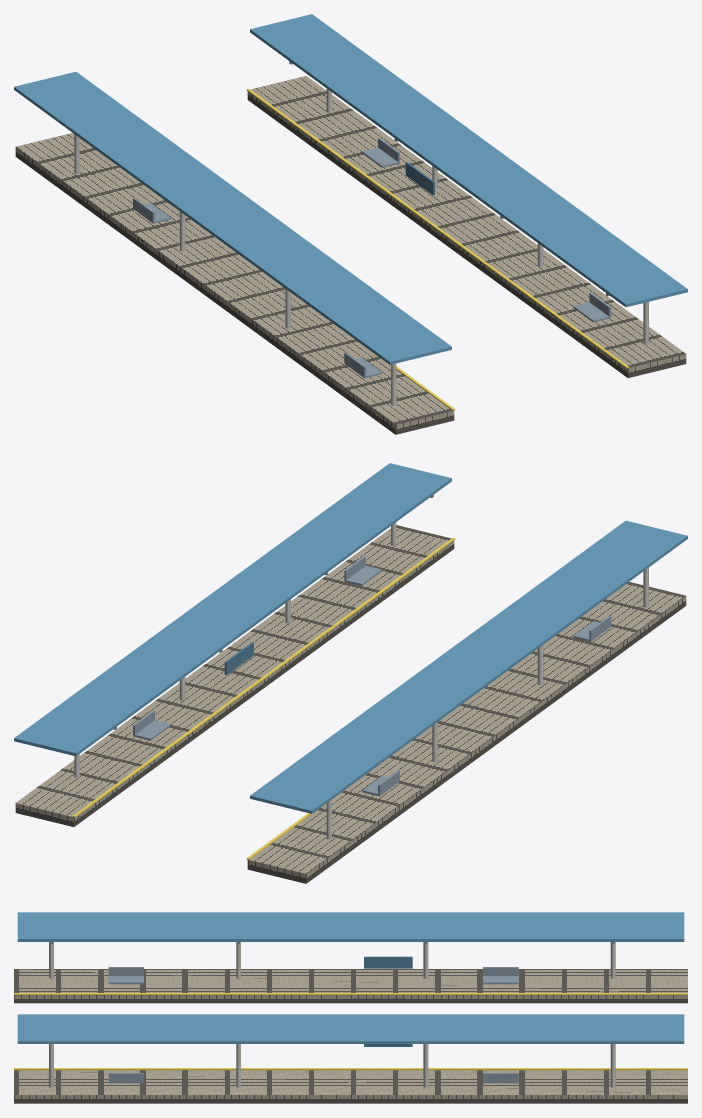
The model's file is SM_Platform_Kit.glb.
The picture shows the model from 3 angles, top to bottom: view 1: azimuth 30°, elevation 25°; view 2: azimuth 150°, elevation 25°; view 3: azimuth 270°, elevation 25°; orthographic projection. The views are drawn at different scales.
Visible parts, largest first — view 1: CanopyRoof-1, CanopyRoof+1, Platform-1, Platform+1, EdgeStripe+1; view 2: CanopyRoof-1, CanopyRoof+1, Platform-1, Platform+1, EdgeStripe+1; view 3: Platform+1, Platform-1, CanopyRoof-1, CanopyRoof+1, EdgeStripe+1, EdgeStripe-1, Sign-1, BenchBack01, BenchBack11, BenchSeat0-1, BenchBack0-1, BenchBack1-1 (+1 smaller).
Boxes of the visible parts, x1,y1,x2,y2 form: CanopyRoof-1: (14, 71, 451, 364); CanopyRoof+1: (250, 14, 687, 307); Platform-1: (15, 133, 454, 434); Platform+1: (247, 76, 686, 377); EdgeStripe+1: (246, 88, 629, 368); CanopyRoof-1: (250, 520, 687, 813); CanopyRoof+1: (14, 463, 451, 756); Platform-1: (247, 582, 686, 883); Platform+1: (15, 525, 454, 826); EdgeStripe+1: (72, 537, 455, 817); Platform+1: (14, 1070, 687, 1103); Platform-1: (14, 969, 687, 1003); CanopyRoof-1: (17, 912, 684, 941); CanopyRoof+1: (17, 1014, 684, 1043); EdgeStripe+1: (14, 1068, 687, 1070); EdgeStripe-1: (14, 993, 687, 994); Sign-1: (364, 956, 412, 968); BenchBack01: (483, 1073, 518, 1082); BenchBack11: (108, 1073, 143, 1082); BenchSeat0-1: (483, 976, 518, 984); BenchBack0-1: (483, 967, 518, 975); BenchBack1-1: (108, 967, 143, 975).
Bounding box in the file's own units: 16.3 × 3.78 × 36.
7 materials, 1 textured.
